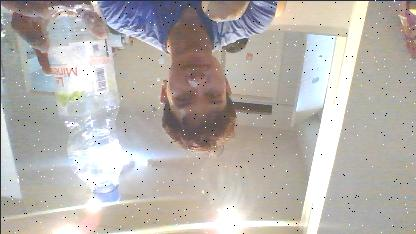Plastic Bottle: (41, 4, 123, 204)
